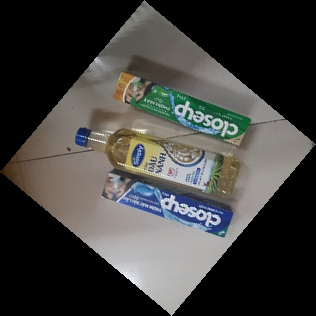CloseUp Tuyet: (99, 168, 235, 241)
CloseUp Xanh: (111, 71, 252, 147)
Simply: (73, 126, 240, 200)
